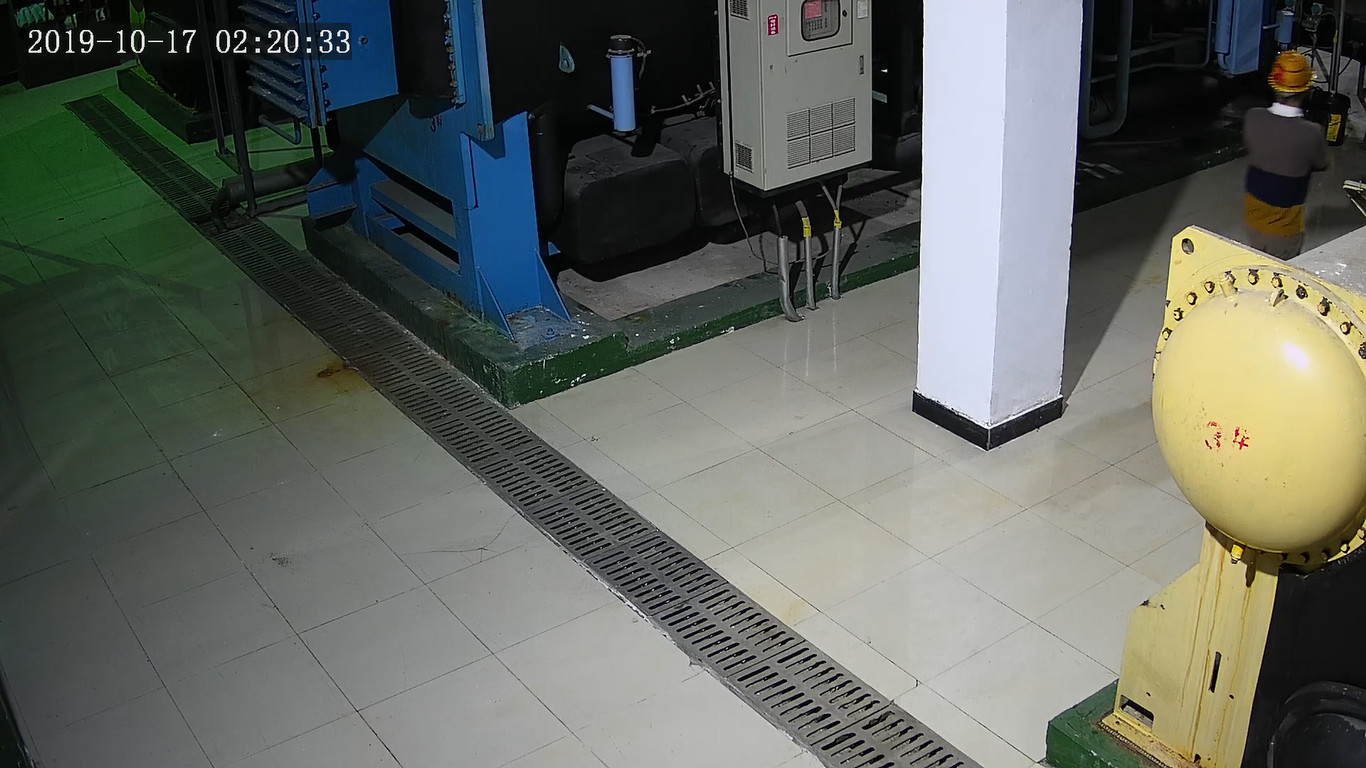helmet: (1267, 50, 1318, 92)
